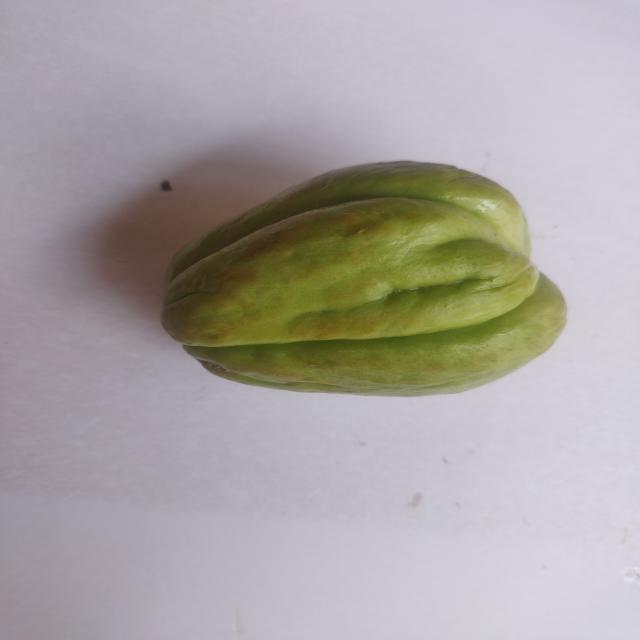Chayote: (147, 144, 576, 406)
